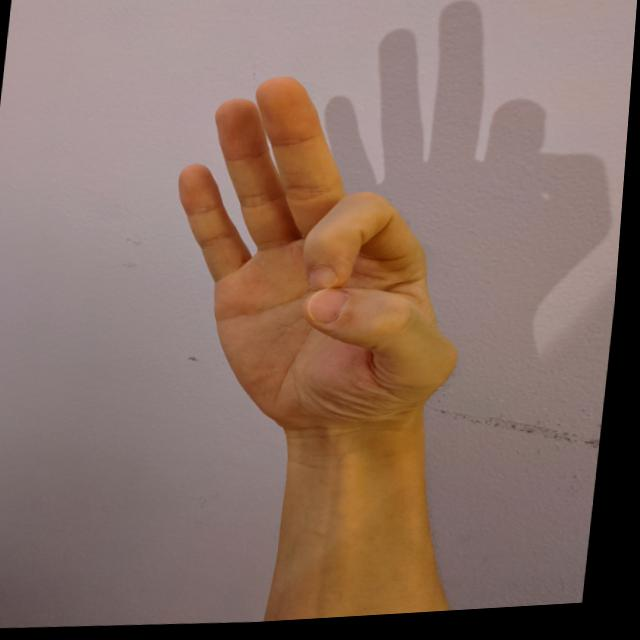F: (150, 60, 499, 455)
